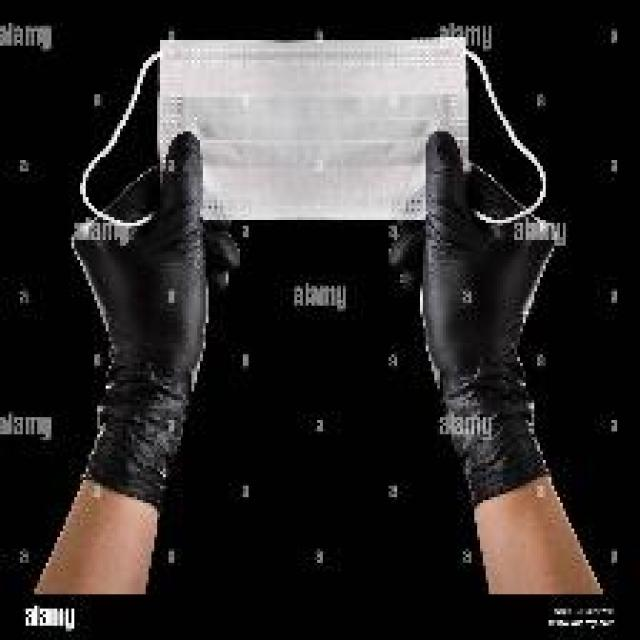Mask: (82, 21, 553, 297)
